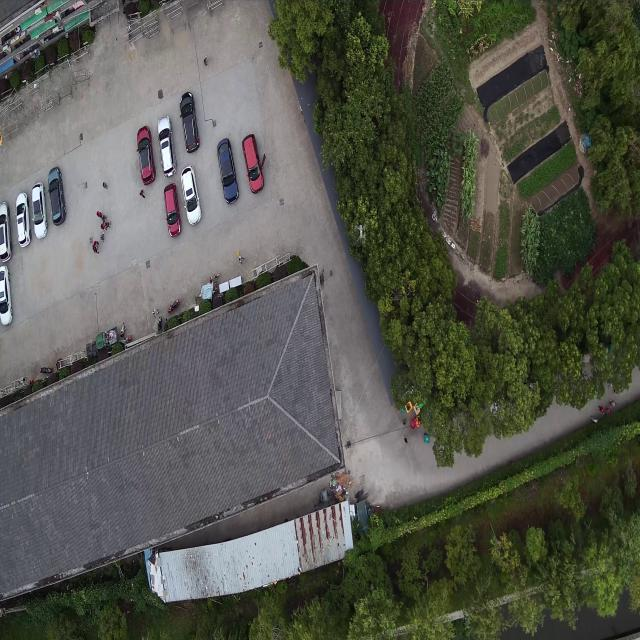UAV: (354, 224, 368, 243)
